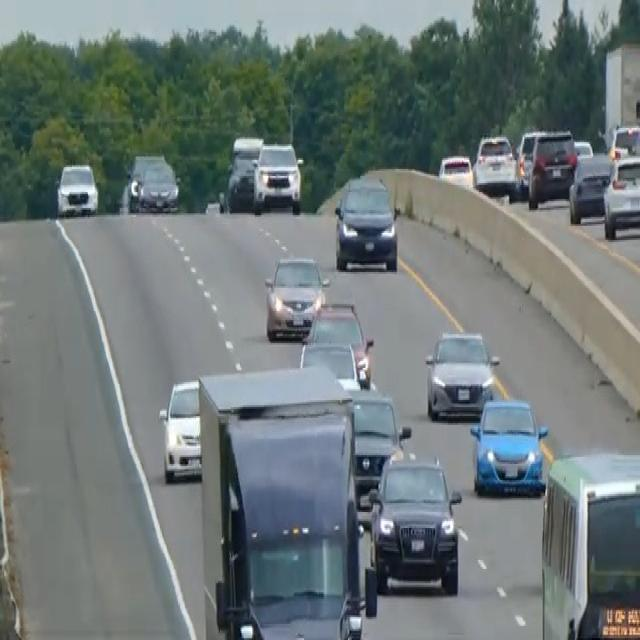bus: (538, 446, 638, 636)
car: (343, 384, 411, 507), (469, 395, 548, 496), (424, 327, 499, 420), (301, 298, 374, 386), (333, 174, 398, 272), (120, 137, 186, 226), (263, 252, 328, 342), (158, 375, 202, 482), (527, 126, 576, 208), (252, 139, 302, 213), (568, 151, 614, 224), (299, 338, 361, 391), (602, 151, 639, 238), (472, 132, 517, 196), (226, 133, 263, 210), (55, 160, 98, 217), (126, 151, 165, 210), (138, 156, 179, 212), (515, 128, 539, 194), (438, 151, 473, 189), (608, 121, 639, 158), (230, 134, 263, 164), (572, 137, 594, 163)
jeep: (367, 446, 463, 596)
lorry: (196, 363, 377, 638)
